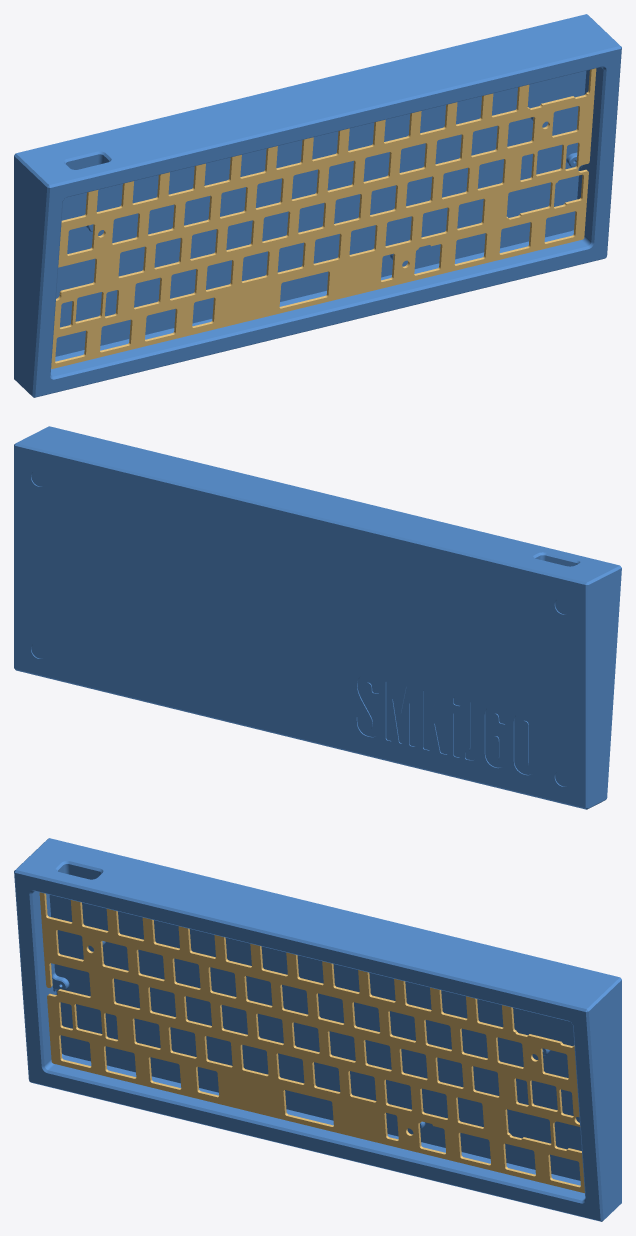
File: smkj60-assembly.fbx
3 views of the same model, one above another, from view 1: azimuth 30°, elevation 25°; view 2: azimuth 150°, elevation 25°; view 3: azimuth 330°, elevation 25° (orthographic).
Visible parts, largest first — view 1: Body1, Body2; view 2: Body1; view 3: Body1, Body2.
Boxes of the visible parts, box(x1,y1,x2,y2) form: Body1: box(14, 14, 621, 397); Body2: box(51, 68, 596, 369); Body1: box(14, 426, 621, 809); Body1: box(14, 838, 621, 1221); Body2: box(39, 892, 584, 1193).
Bounding box in the file's own units: 305 × 117 × 32.52.
